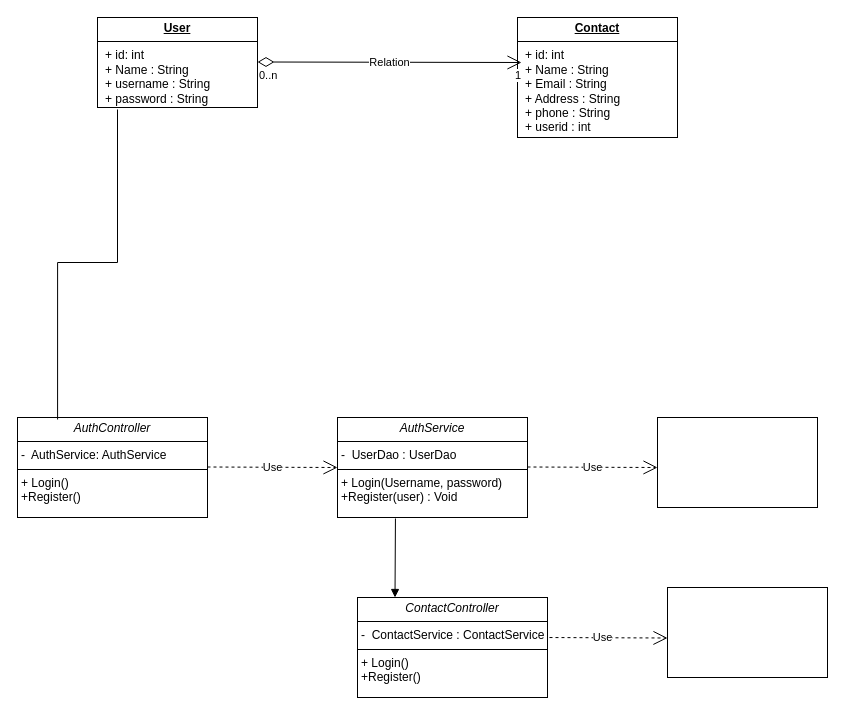
Some shapes in this 845 by 715 pixel diagram are drawn without their labels. Here are the shapes that lost their labels. From the top down, the centre of each, then its label:
the point at 737,462: UserDao + findById(id): User + findByUsername(u): User + save(user): void
the point at 747,632: ContactDao + getContactsByUserId() + save(contact): void + delete(id): void
